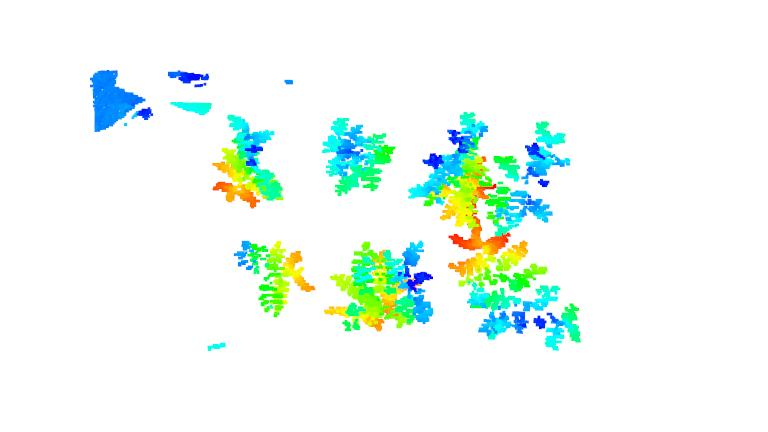chickpea: (447, 234, 584, 347), (406, 112, 492, 235), (489, 121, 567, 231), (211, 115, 282, 209), (234, 240, 319, 317), (317, 117, 392, 199), (324, 242, 387, 335), (384, 239, 443, 332)
